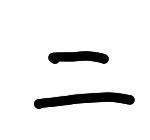eqv: (35, 52, 135, 109)
